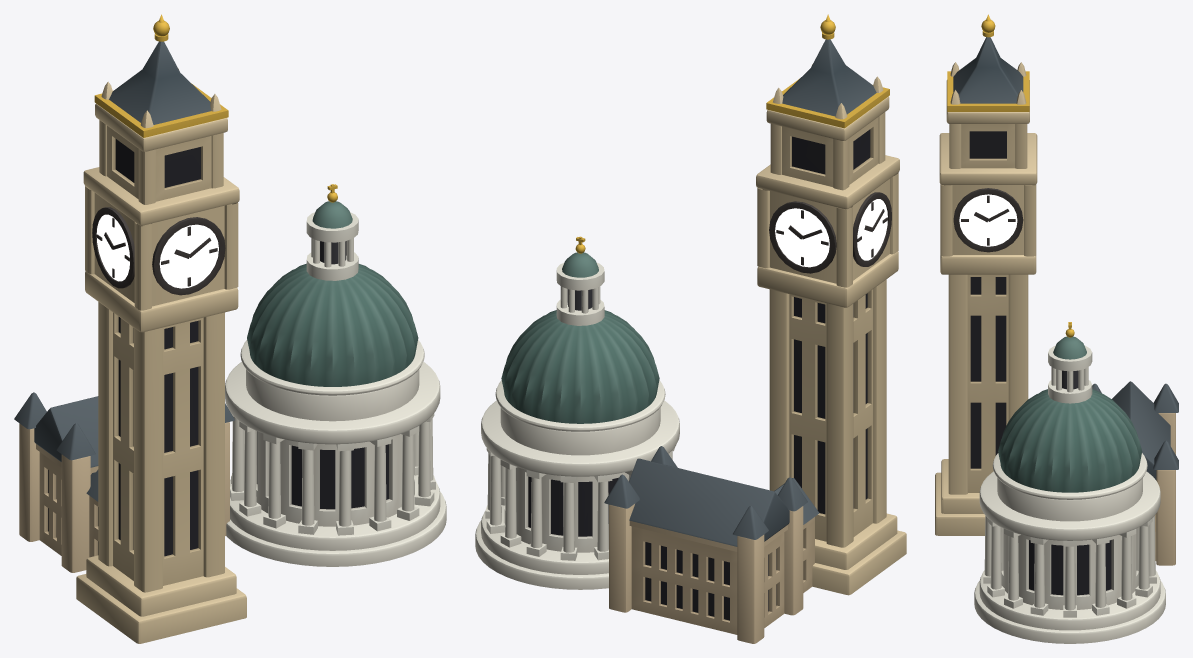
Rendered from landmark_london_solo.glb.
3 views of the same model, side by side, from view 1: azimuth 30°, elevation 25°; view 2: azimuth 150°, elevation 25°; view 3: azimuth 270°, elevation 25° (orthographic). The views are drawn at different scales.
Visible parts, largest first — view 1: ElizabethTower_Stone, StPauls_Stone, StPauls_Dome, StPauls_Colonnade, Parliament_Stone, ElizabethTower_Clocks, Parliament_Roof, ElizabethTower_Roof, StPauls_Lantern, ElizabethTower_Gold; view 2: ElizabethTower_Stone, StPauls_Stone, Parliament_Stone, StPauls_Dome, Parliament_Roof, ElizabethTower_Clocks, StPauls_Colonnade, ElizabethTower_Roof, StPauls_Lantern, ElizabethTower_Gold; view 3: ElizabethTower_Stone, StPauls_Stone, StPauls_Dome, StPauls_Colonnade, ElizabethTower_Clocks, Parliament_Roof, ElizabethTower_Roof, StPauls_Lantern, Parliament_Stone, ElizabethTower_Gold.
Part boxes in pixels (bbox=[...]): ElizabethTower_Stone: bbox=[76, 68, 246, 643]; StPauls_Stone: bbox=[225, 339, 446, 566]; StPauls_Dome: bbox=[247, 263, 418, 386]; StPauls_Colonnade: bbox=[230, 413, 435, 535]; Parliament_Stone: bbox=[19, 422, 229, 572]; ElizabethTower_Clocks: bbox=[92, 207, 225, 295]; Parliament_Roof: bbox=[14, 392, 234, 501]; ElizabethTower_Roof: bbox=[109, 41, 210, 124]; StPauls_Lantern: bbox=[306, 184, 358, 280]; ElizabethTower_Gold: bbox=[94, 14, 228, 137]; ElizabethTower_Stone: bbox=[756, 64, 906, 595]; StPauls_Stone: bbox=[475, 380, 679, 589]; Parliament_Stone: bbox=[609, 504, 814, 643]; StPauls_Dome: bbox=[501, 310, 659, 423]; Parliament_Roof: bbox=[604, 446, 819, 546]; ElizabethTower_Clocks: bbox=[769, 192, 891, 273]; StPauls_Colonnade: bbox=[485, 447, 674, 560]; ElizabethTower_Roof: bbox=[782, 39, 876, 116]; StPauls_Lantern: bbox=[556, 236, 604, 325]; ElizabethTower_Gold: bbox=[766, 14, 889, 128]; ElizabethTower_Stone: bbox=[935, 62, 1037, 535]; StPauls_Stone: bbox=[974, 453, 1165, 643]; StPauls_Dome: bbox=[998, 389, 1142, 492]; StPauls_Colonnade: bbox=[983, 515, 1156, 617]; ElizabethTower_Clocks: bbox=[953, 188, 1023, 252]; Parliament_Roof: bbox=[1092, 381, 1178, 479]; ElizabethTower_Roof: bbox=[953, 37, 1023, 103]; StPauls_Lantern: bbox=[1048, 322, 1092, 403]; Parliament_Stone: bbox=[1155, 413, 1175, 565]; ElizabethTower_Gold: bbox=[947, 14, 1029, 111].
Bounding box in the file's own units: 1.02 × 1.55 × 0.686.
